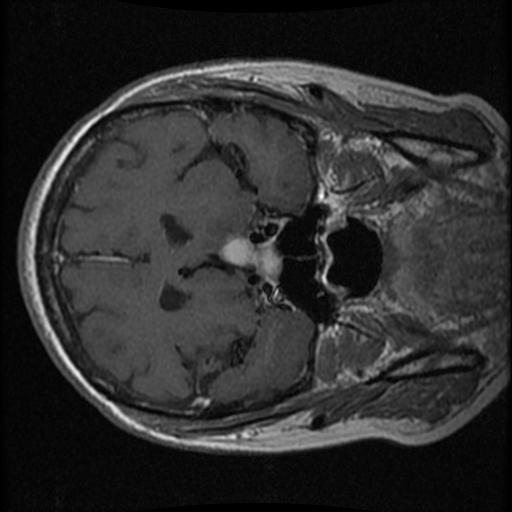pituitary tumour: (222, 237, 283, 283)
